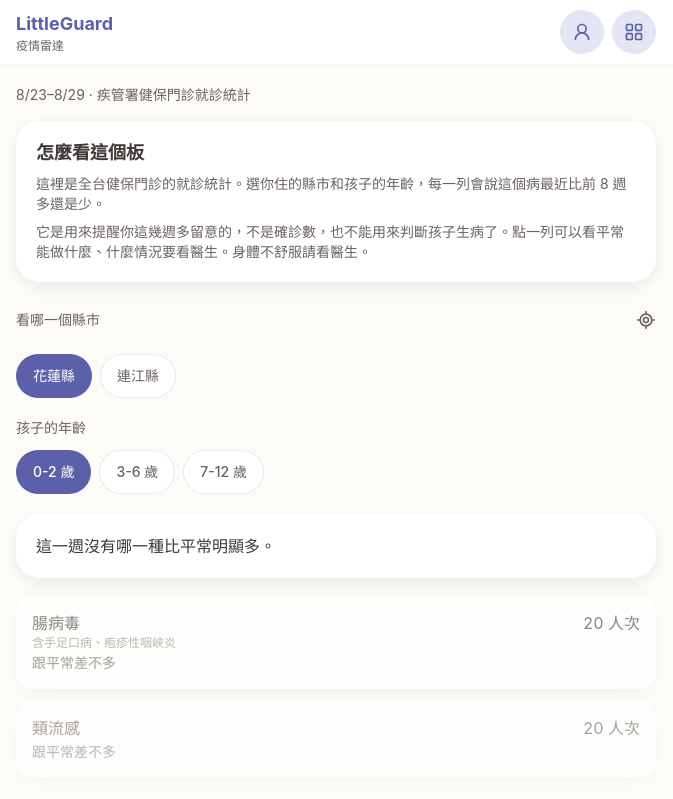
縣市與年齡層 › 切換縣市會換掉整塊板
Expected: the text "腸病毒" is shown, left=32, top=613, right=80, bottom=633
Click the button "連江縣" at (138, 376), box left=100, top=354, right=176, bottom=398
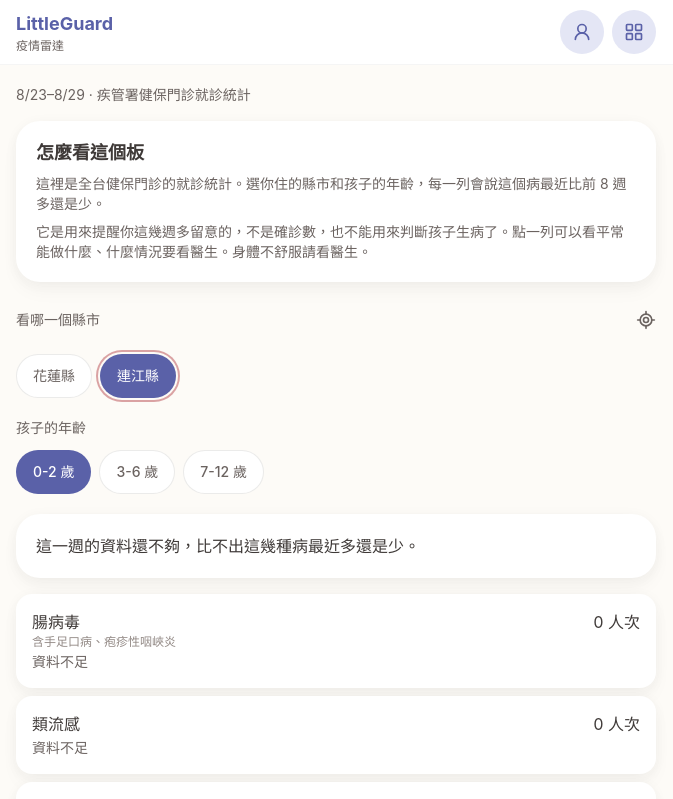
Now the button "跟平常差不多" is gone
